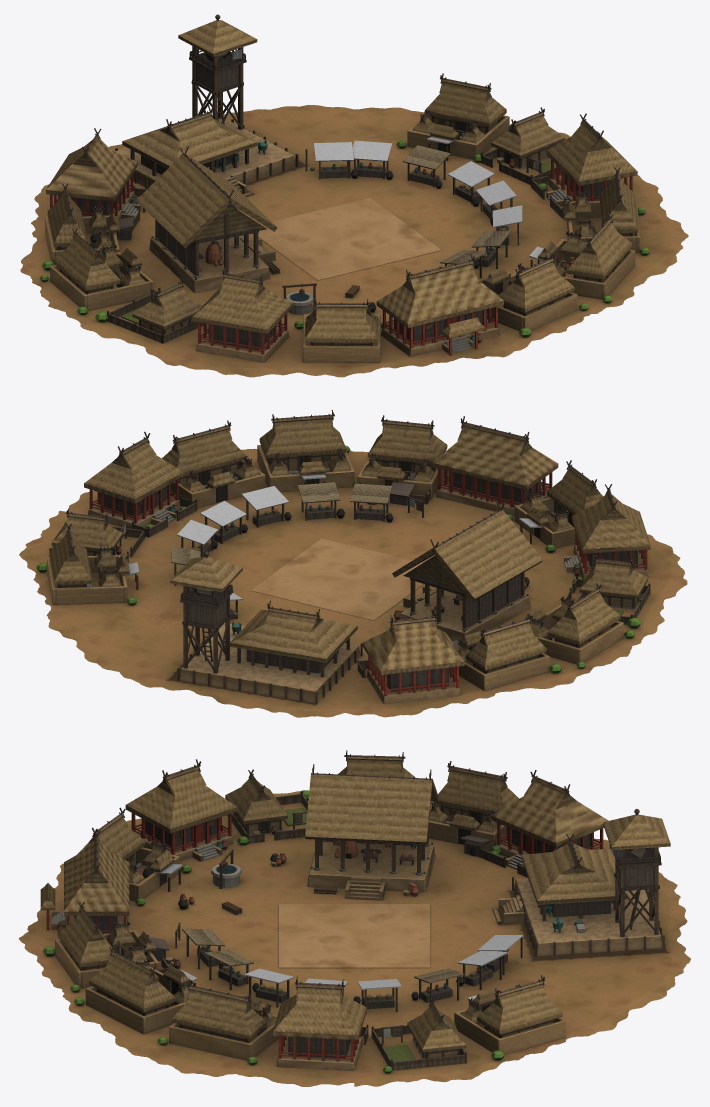
Rendered from bronze-town-medium-b-sinic-30a17ec9.glb.
3 views of the same model, one above another, from view 1: azimuth 30°, elevation 25°; view 2: azimuth 150°, elevation 25°; view 3: azimuth 270°, elevation 25° (orthographic). The views are drawn at different scales.
Parts seen in each view (by area): view 1: LOD0; view 2: LOD0; view 3: LOD0.
Part boxes in pixels (box(x1,y1,x2,y2)): LOD0: box(20, 14, 688, 377); LOD0: box(19, 410, 687, 717); LOD0: box(19, 750, 690, 1086).
Size of what is drawn, in the model's own units: 5.92 by 1.22 by 5.6.
3 materials, 3 textured.
